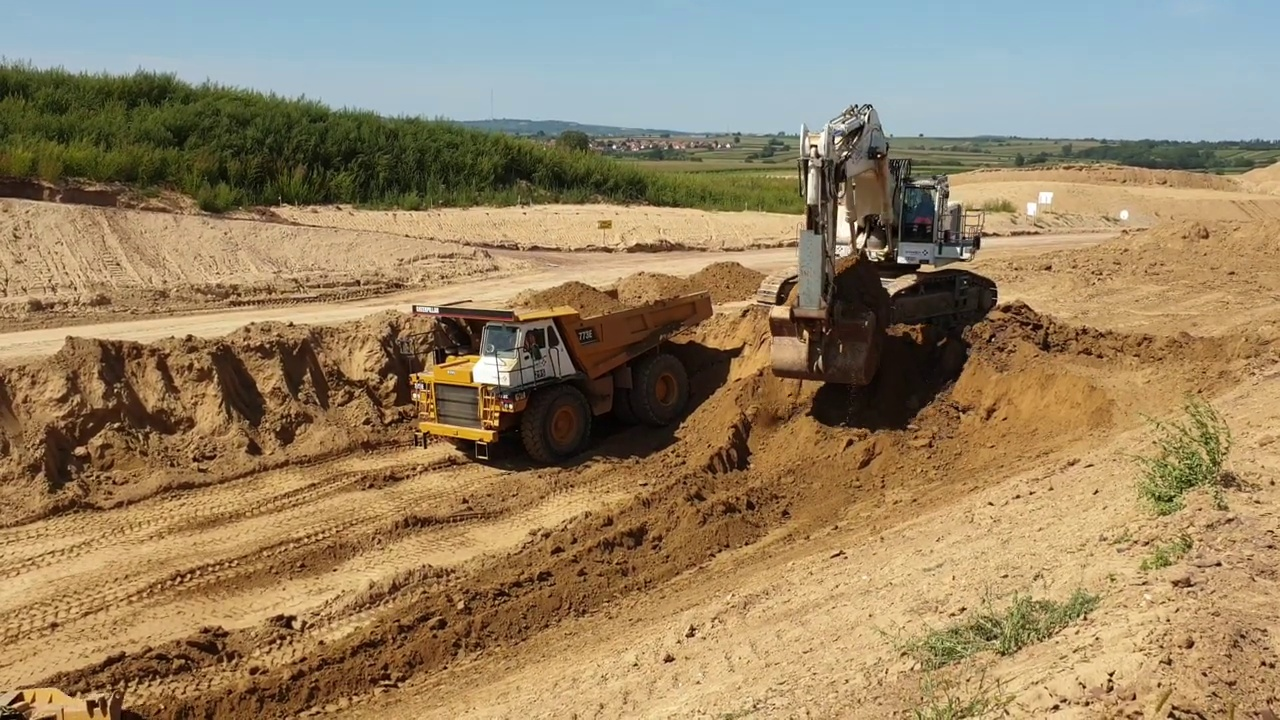excavator: (750, 95, 997, 392)
truck: (402, 288, 719, 472)
